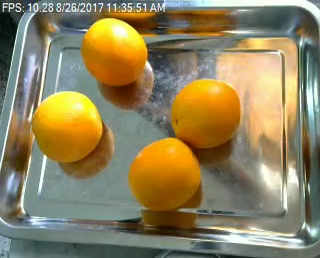Orange: (128, 139, 203, 211), (31, 91, 102, 162), (170, 77, 240, 148), (81, 17, 146, 85)
